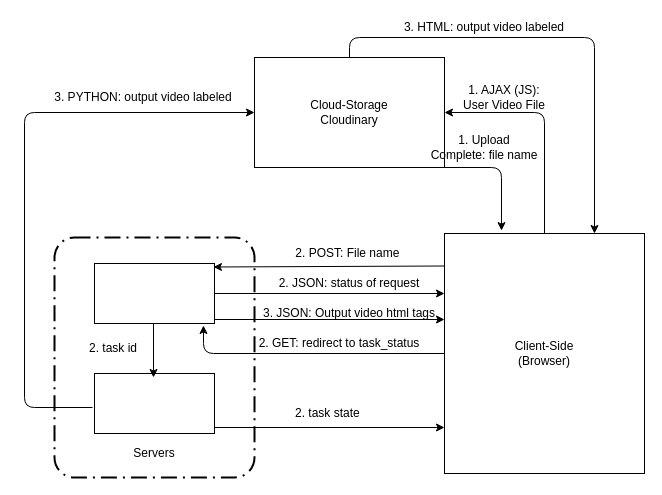
The diagram is 662 pixels wide and 495 high, and some of its shapes have lost their labels. Here are the shapes that lost their labels. From the top down, the centre of each, then its label:
At point 154,293: "Flask gunicorn".
At point 154,403: "Celery Redis".
